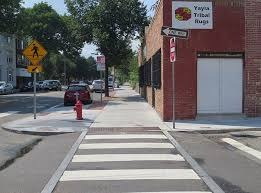crosswalk: (53, 127, 210, 192)
pole: (22, 40, 47, 118), (170, 37, 175, 128)
